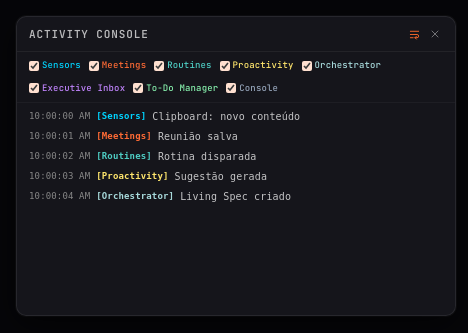
ActivityConsole › 4. Filtros por categoria devem funcionar
The width and height of the screenshot is (468, 333).
Expected: the text "Clipboard: novo conteúdo" is shown, [152, 111, 300, 122]
// Uncheck sensors filter
Click the checkbox with test id "filter-sensors": x=34, y=66 [29, 61, 39, 71]
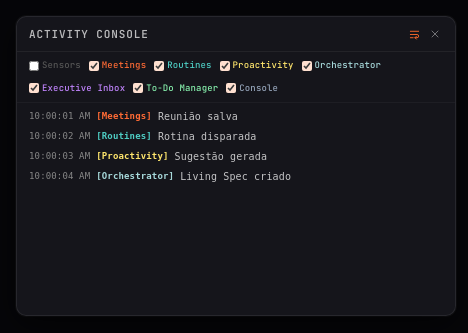
Expected: the text "Reunião salva" is shown, [158, 111, 238, 122]
Now the text "Clipboard: novo conteúdo" is gone
